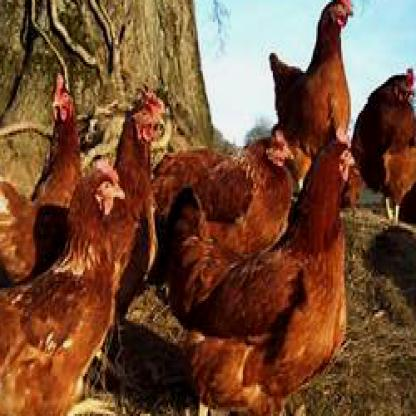chicken: (168, 126, 359, 414), (0, 157, 128, 414), (0, 71, 82, 294), (154, 130, 294, 236), (270, 0, 356, 146), (115, 93, 165, 323), (354, 68, 414, 224)
